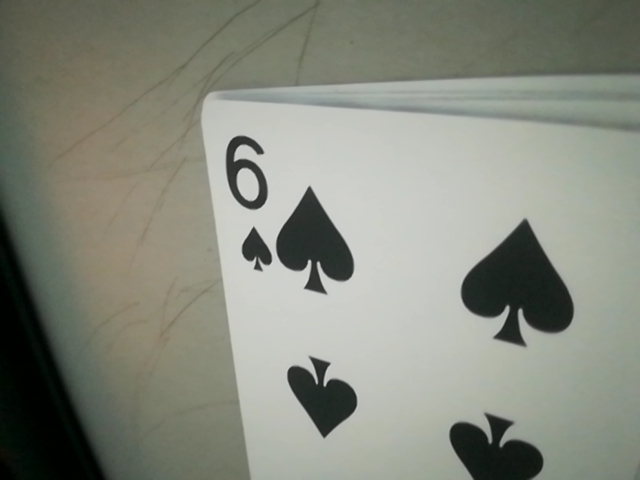ht 6: (213, 113, 285, 287)
